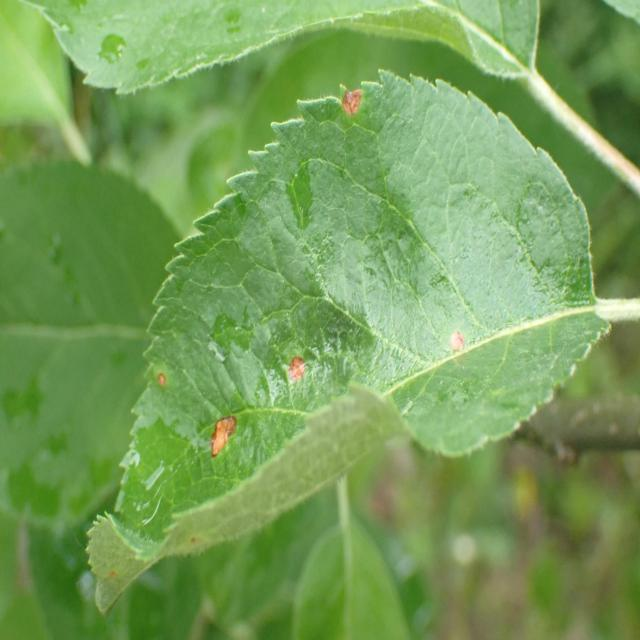Black Rot: (273, 331, 322, 401), (334, 65, 370, 131), (202, 410, 247, 460), (442, 320, 473, 373), (149, 365, 175, 403)
